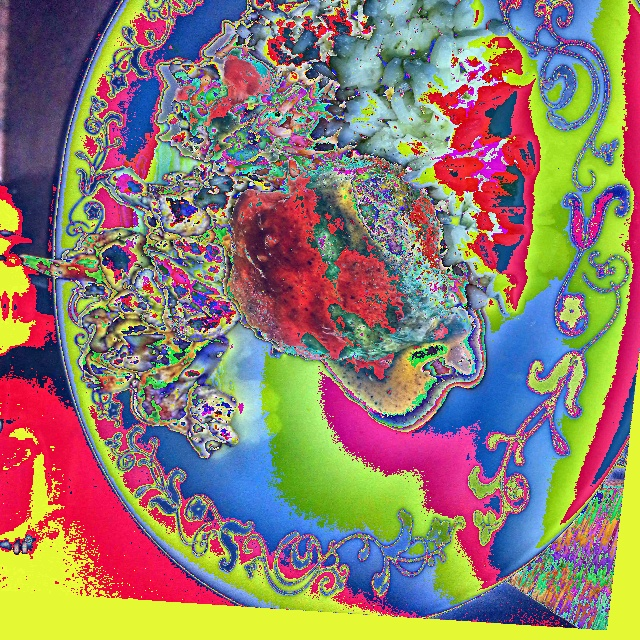background: (18, 0, 533, 459)
